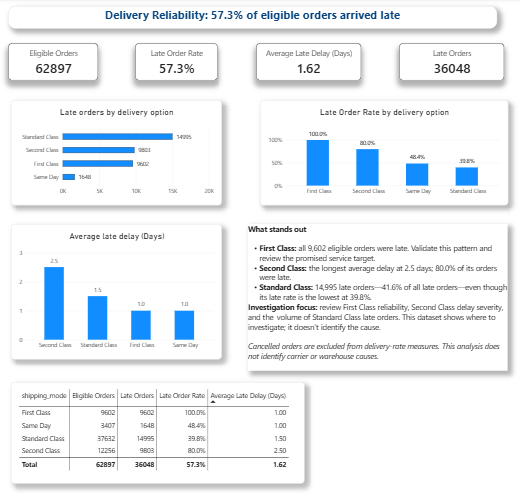

The page's visual inventory and layout, read from the dashboard file:
{"tool":"powerbi","page":{"name":"Delivery Reliability","canvas":[1920,1080],"ordinal":1},"visuals":[{"type":"cardVisual","fields":{"Data":["_All Measures.Eligible Orders"]},"box":[16,96,192,80],"z":0},{"type":"tableEx","fields":{"Values":["supply_chain_db fact_orders.shipping_mode","_All Measures.Eligible Orders","_All Measures.Late Orders","_All Measures.Late Order Rate","_All Measures.Average Late Delay (Days)"]},"box":[36.8,856.3,608,208],"z":1000},{"type":"cardVisual","fields":{"Data":["_All Measures.Late Orders"]},"box":[848,96,224,80],"z":2000},{"type":"cardVisual","fields":{"Data":["_All Measures.Late Order Rate"]},"box":[288,96,176,80],"z":3000},{"type":"cardVisual","fields":{"Data":["_All Measures.Average Late Delay (Days)"]},"box":[544,96,224,80],"z":4000},{"type":"clusteredBarChart","title":"Late orders by delivery option","fields":{"Category":["supply_chain_db fact_orders.shipping_mode"],"Y":["_All Measures.Late Orders"]},"box":[36.8,280.3,448,224],"z":5000},{"type":"textbox","box":[16,16,1040,48],"z":6000},{"type":"clusteredColumnChart","title":"Late Order Rate by delivery option","fields":{"Category":["supply_chain_db fact_orders.shipping_mode"],"Y":["_All Measures.Late Order Rate"]},"box":[532.8,280.3,528,224],"z":7000},{"type":"clusteredColumnChart","title":"Average late delay (Days) ","fields":{"Category":["supply_chain_db fact_orders.shipping_mode"],"Y":["_All Measures.Average Late Delay (Days)"]},"box":[36.8,536.3,448,288],"z":8000},{"type":"textbox","box":[532.8,536.3,528,288],"z":9000}]}

Visuals, with their boxes on the page's 1920x1080 design canvas (x1, y1, x2, y2). These are canvas units, not pixel positions in the 520x496 screenshot, which may show the page scaled, cropped or inside an application window:
cardVisual - _All Measures.Eligible Orders: x1=16 y1=96 x2=208 y2=176
tableEx - supply_chain_db fact_orders.shipping_mode x _All Measures.Eligible Orders: x1=37 y1=856 x2=645 y2=1064
cardVisual - _All Measures.Late Orders: x1=848 y1=96 x2=1072 y2=176
cardVisual - _All Measures.Late Order Rate: x1=288 y1=96 x2=464 y2=176
cardVisual - _All Measures.Average Late Delay (Days): x1=544 y1=96 x2=768 y2=176
"Late orders by delivery option" clusteredBarChart: x1=37 y1=280 x2=485 y2=504
textbox: x1=16 y1=16 x2=1056 y2=64
"Late Order Rate by delivery option" clusteredColumnChart: x1=533 y1=280 x2=1061 y2=504
"Average late delay (Days) " clusteredColumnChart: x1=37 y1=536 x2=485 y2=824
textbox: x1=533 y1=536 x2=1061 y2=824
